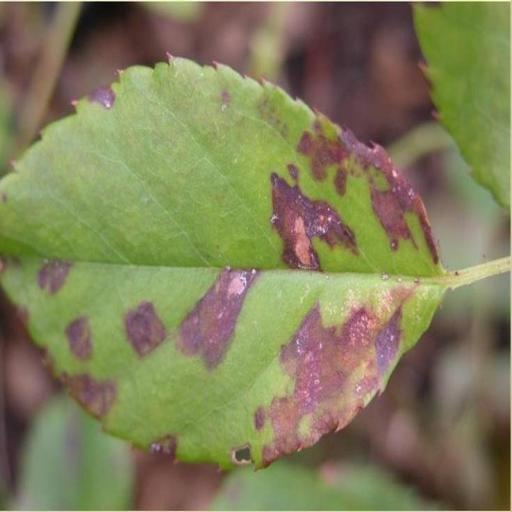downy_mildew: (0, 59, 444, 467), (415, 3, 510, 209), (15, 397, 134, 510), (211, 464, 432, 511)
